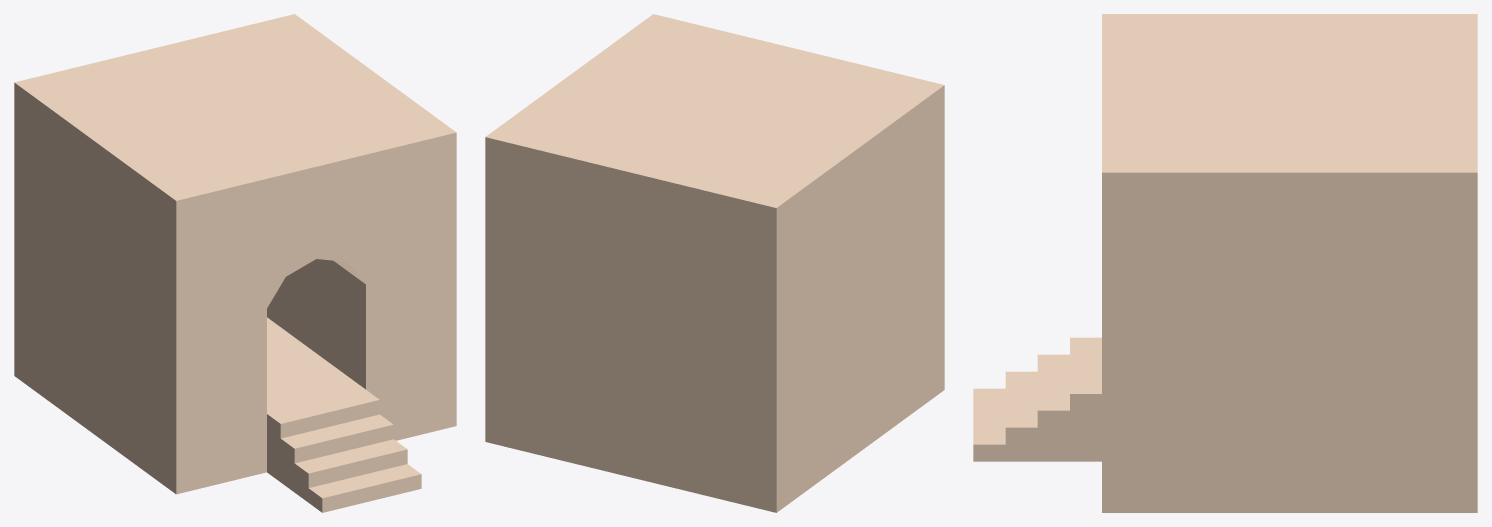
The model's file is Abstract_Castle_Block_1_Unit_Beige_Door_Stairs_01.fbx.
3 views of the same model, side by side, from view 1: azimuth 30°, elevation 25°; view 2: azimuth 150°, elevation 25°; view 3: azimuth 270°, elevation 25° (orthographic). The views are drawn at different scales.
Parts seen in each view (by area): view 1: Abstract_Castle_Block_1_Unit_Beige_Door_Stairs_01; view 2: Abstract_Castle_Block_1_Unit_Beige_Door_Stairs_01; view 3: Abstract_Castle_Block_1_Unit_Beige_Door_Stairs_01.
Boxes of the visible parts, x1,y1,x2,y2 form: Abstract_Castle_Block_1_Unit_Beige_Door_Stairs_01: (14,14,456,512); Abstract_Castle_Block_1_Unit_Beige_Door_Stairs_01: (485,14,944,512); Abstract_Castle_Block_1_Unit_Beige_Door_Stairs_01: (973,14,1477,512).
Bounding box in the file's own units: 98.43 × 98.43 × 132.
